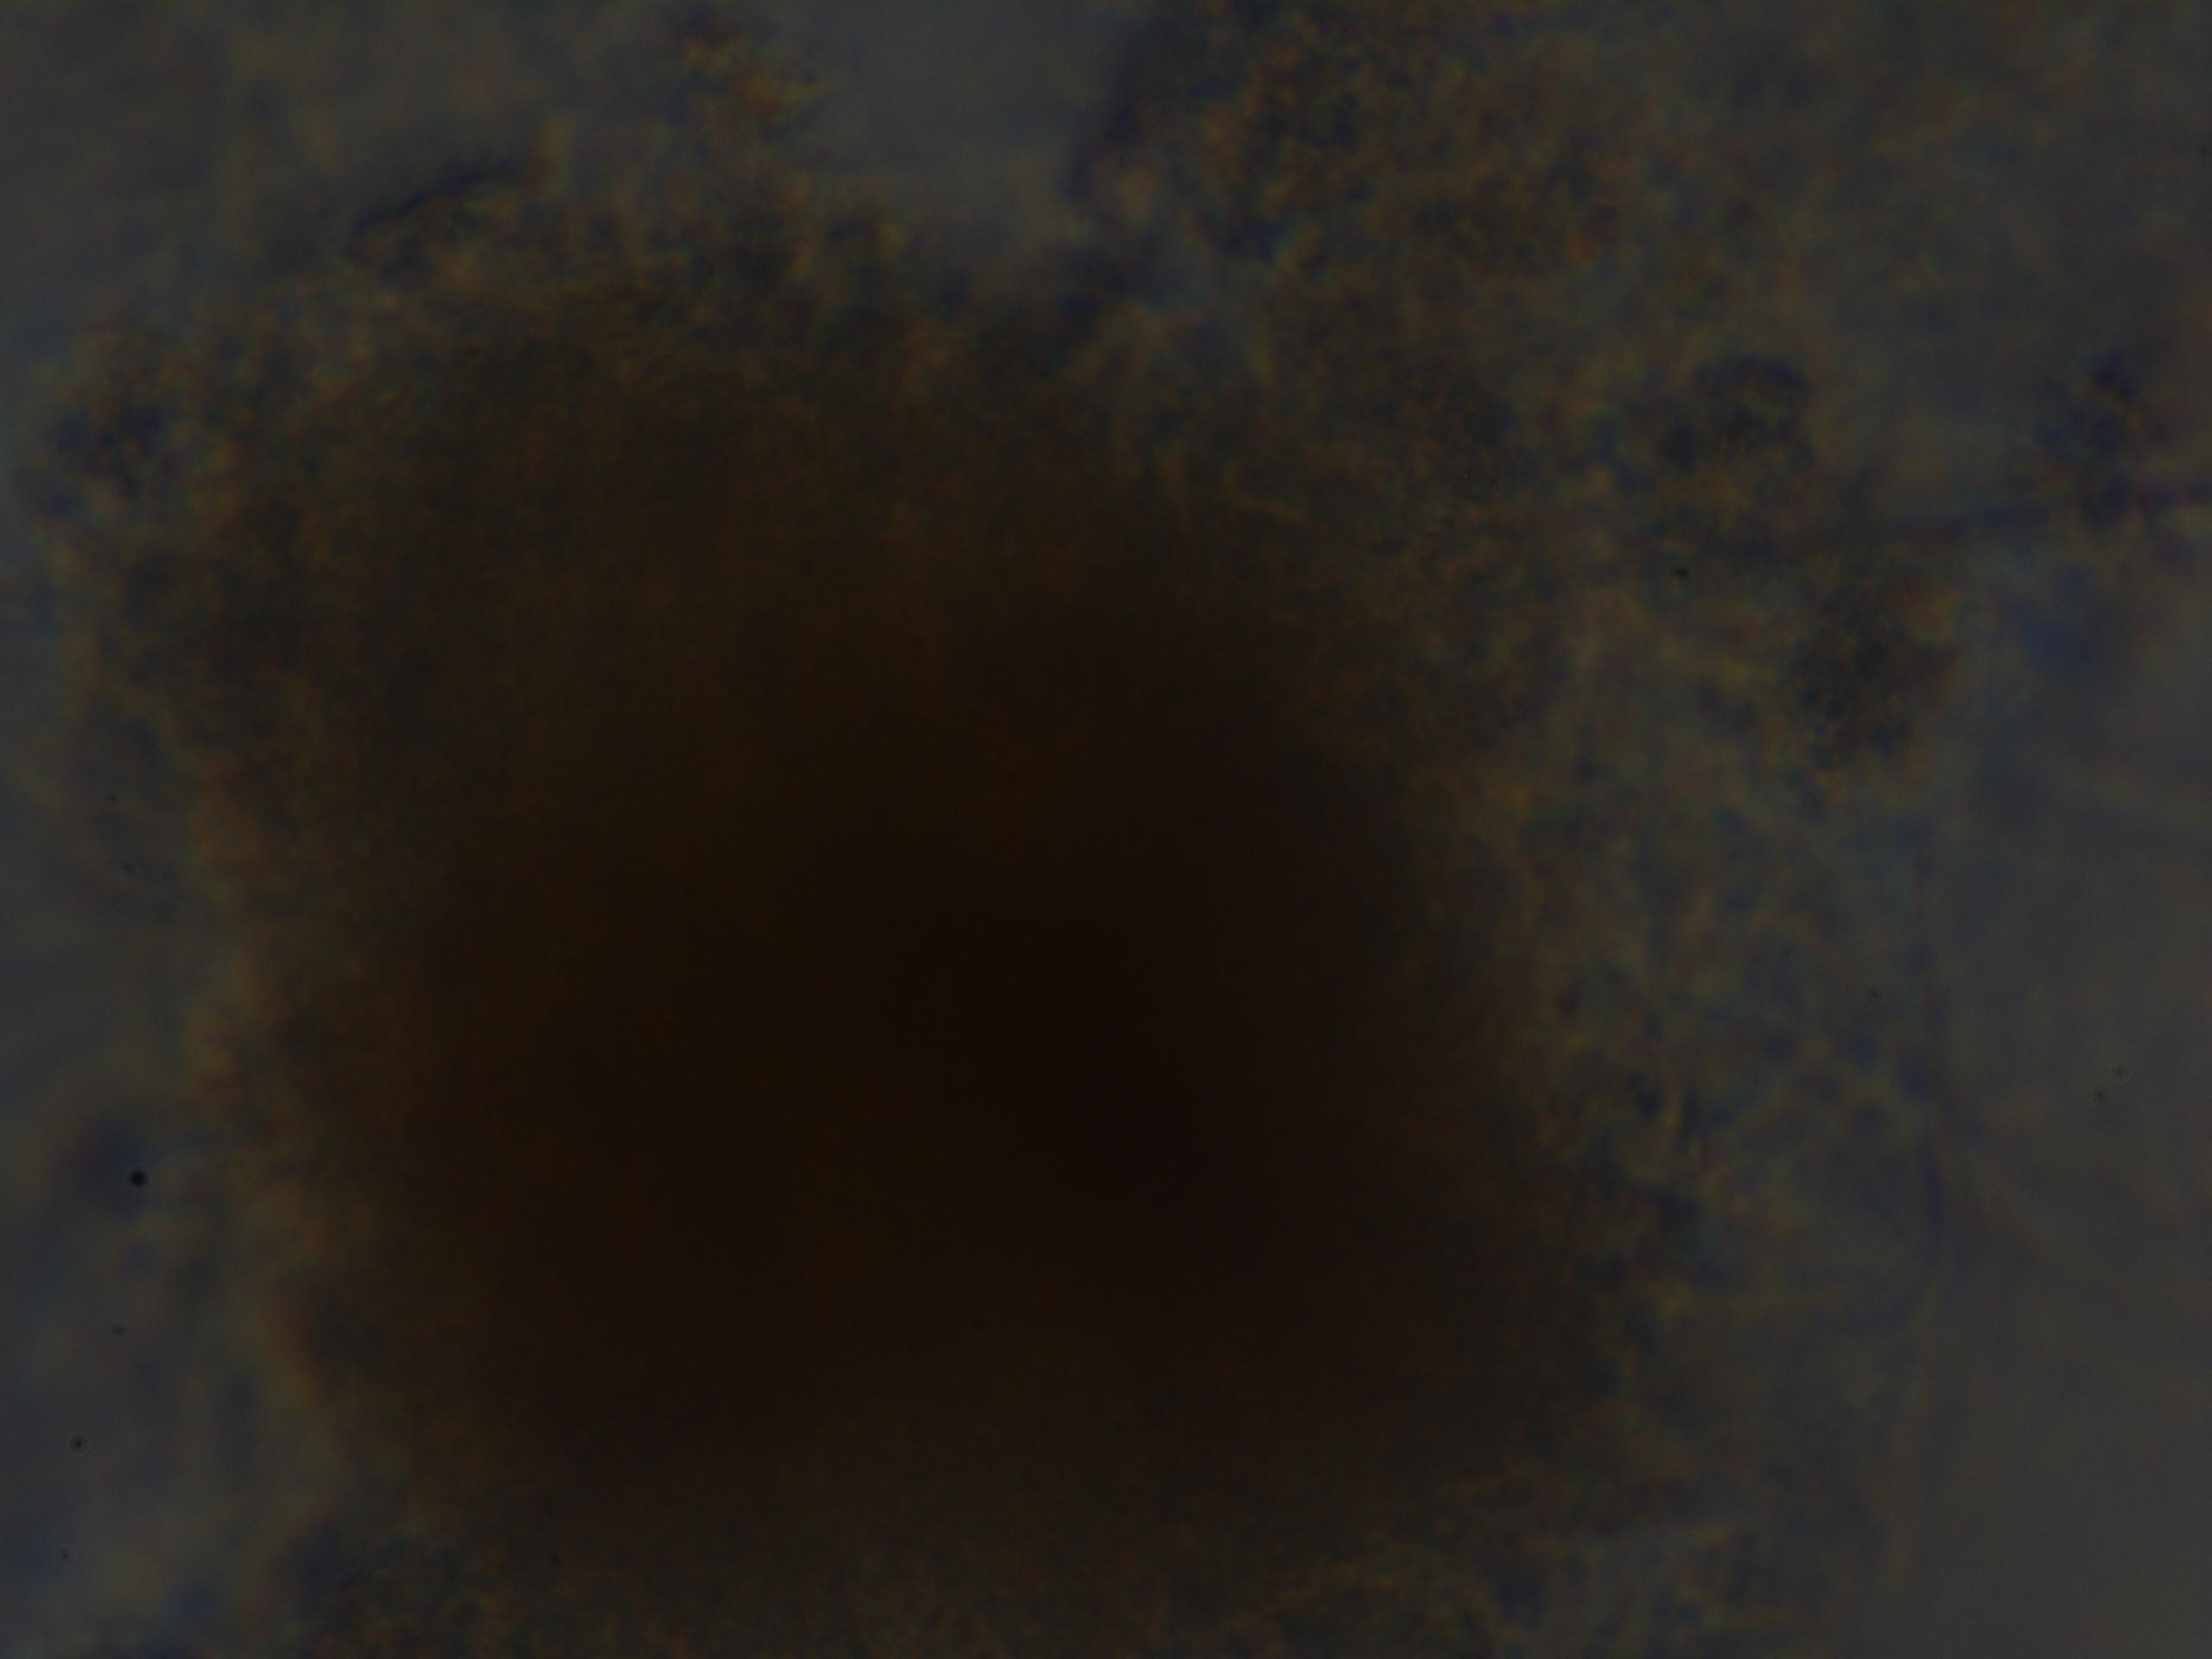spherical_floc: (45, 186, 1662, 1659)
